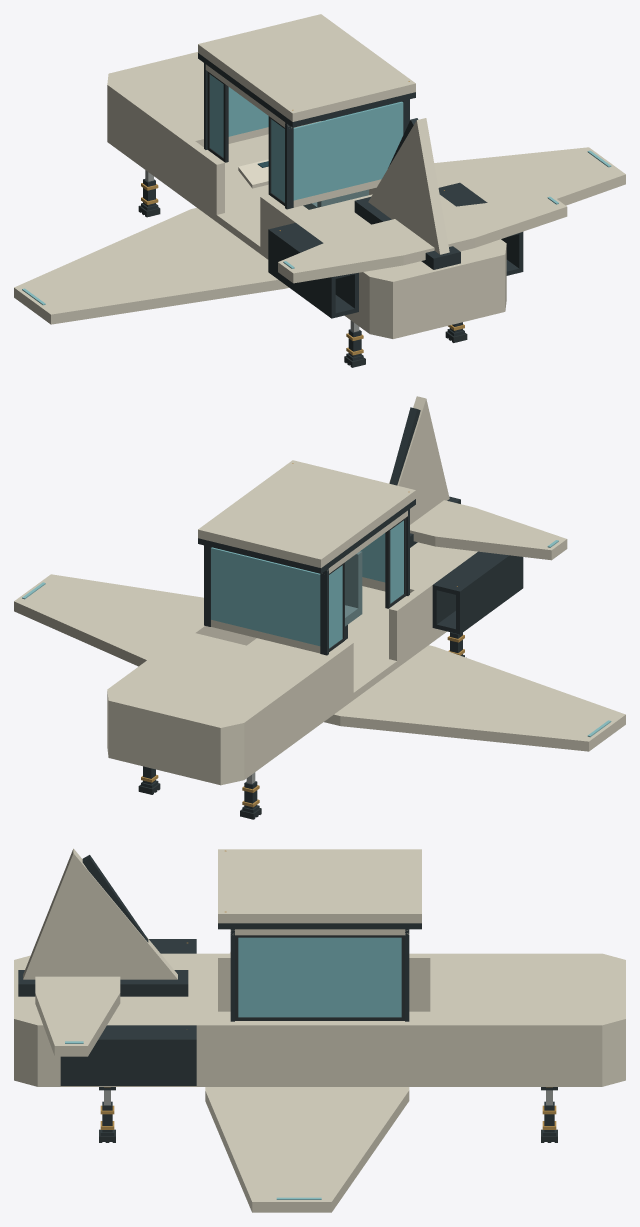
3 views of the same model, one above another, from view 1: azimuth 30°, elevation 25°; view 2: azimuth 150°, elevation 25°; view 3: azimuth 270°, elevation 25° (orthographic). The views are drawn at different scales.
Parts seen in each view (by area): view 1: 连续后掠翼面与独立承梁 (×2), 连续倒角机身与真实足舱, 分离舱窗、真实侧门与独立密封, 连续后掠垂尾与实体翼根, 两侧一米六真通风动力盒, 四旋翼落地支脚 (×2), 低操纵台与单座静态舱内; view 2: 连续倒角机身与真实足舱, 连续后掠翼面与独立承梁 (×2), 分离舱窗、真实侧门与独立密封, 两侧一米六真通风动力盒, 连续后掠垂尾与实体翼根, 低操纵台与单座静态舱内, 四旋翼落地支脚; view 3: 连续倒角机身与真实足舱, 分离舱窗、真实侧门与独立密封, 连续后掠翼面与独立承梁 (×2), 连续后掠垂尾与实体翼根, 两侧一米六真通风动力盒, 四旋翼落地支脚 (×2).
Boxes of the visible parts, bbox=[...] form: 连续后掠翼面与独立承梁 (×2): bbox=[14, 147, 625, 324]; 连续倒角机身与真实足舱: bbox=[107, 52, 506, 338]; 分离舱窗、真实侧门与独立密封: bbox=[198, 14, 415, 209]; 连续后掠垂尾与实体翼根: bbox=[354, 118, 460, 269]; 两侧一米六真通风动力盒: bbox=[268, 182, 523, 318]; 四旋翼落地支脚 (×2): bbox=[138, 170, 365, 367]; 低操纵台与单座静态舱内: bbox=[238, 159, 368, 209]; 连续倒角机身与真实足舱: bbox=[107, 542, 477, 785]; 连续后掠翼面与独立承梁 (×2): bbox=[14, 500, 625, 751]; 分离舱窗、真实侧门与独立密封: bbox=[198, 460, 415, 655]; 两侧一米六真通风动力盒: bbox=[432, 551, 523, 634]; 连续后掠垂尾与实体翼根: bbox=[389, 396, 460, 547]; 低操纵台与单座静态舱内: bbox=[345, 551, 362, 639]; 四旋翼落地支脚: bbox=[240, 772, 261, 819]; 连续倒角机身与真实足舱: bbox=[14, 953, 625, 1086]; 分离舱窗、真实侧门与独立密封: bbox=[218, 849, 421, 1021]; 连续后掠翼面与独立承梁 (×2): bbox=[35, 952, 409, 1212]; 连续后掠垂尾与实体翼根: bbox=[18, 848, 188, 996]; 两侧一米六真通风动力盒: bbox=[60, 939, 196, 1085]; 四旋翼落地支脚 (×2): bbox=[99, 1087, 557, 1142].
Size of the model in its own units: 8.4 by 3.4 by 7.2.
11 materials, 11 textured.
